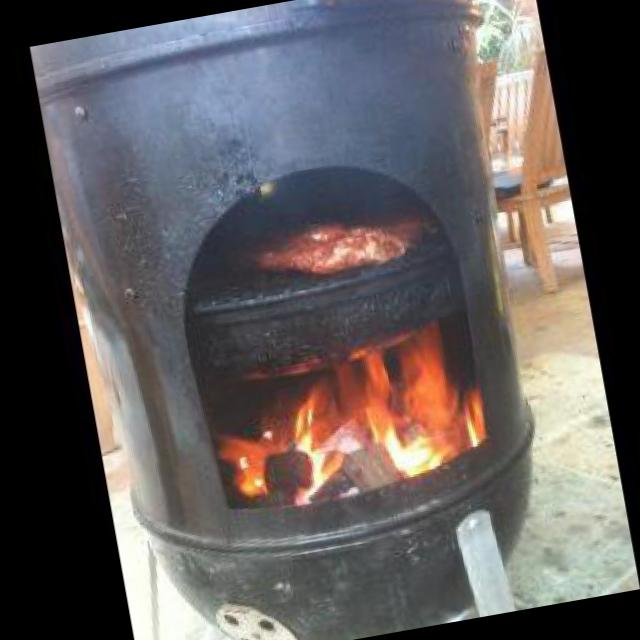fire: (201, 328, 500, 514)
